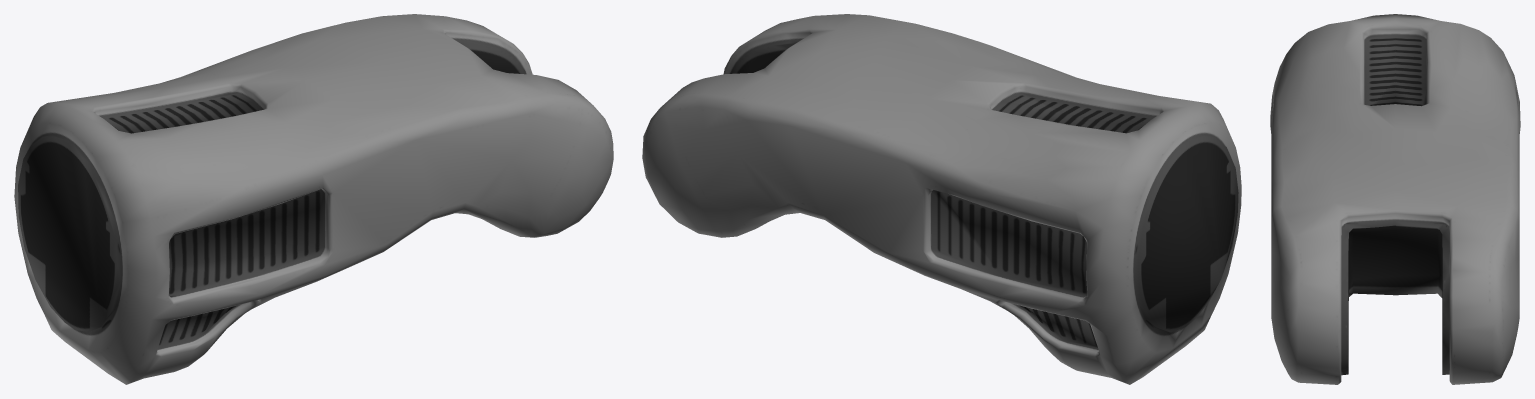
File: forearm.obj
3 views of the same model, side by side, from view 1: azimuth 30°, elevation 25°; view 2: azimuth 150°, elevation 25°; view 3: azimuth 270°, elevation 25° (orthographic). The views are drawn at different scales.
Parts seen in each view (by area): view 1: SM_forearm3_M1700; view 2: SM_forearm3_M1700; view 3: SM_forearm3_M1700.
Part boxes in pixels (x1,y1,x2,y2): SM_forearm3_M1700: (14, 14, 613, 384); SM_forearm3_M1700: (642, 14, 1241, 384); SM_forearm3_M1700: (1270, 14, 1520, 384).
Size of the model in its own units: 0.2637 by 0.121 by 0.1201.
Materials: 1 (1 with a texture image).
